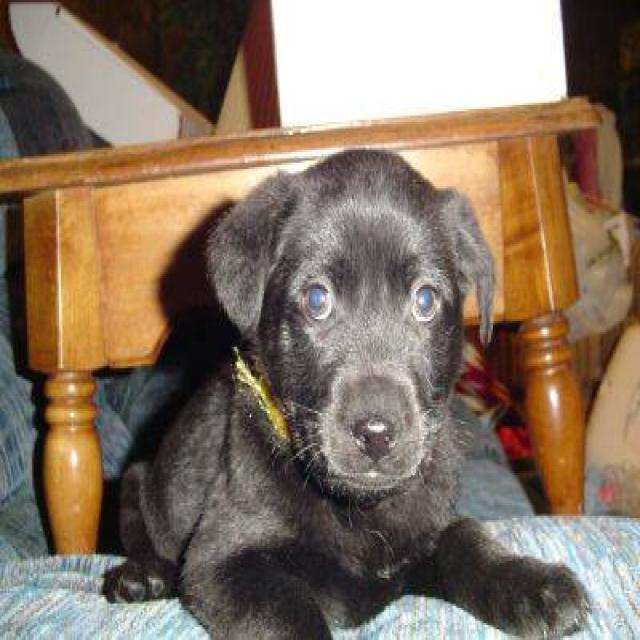dogs: (112, 150, 590, 640)
